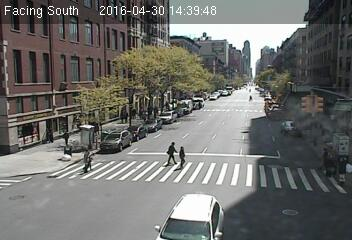neg: (194, 26, 217, 57), (31, 96, 51, 123), (78, 89, 97, 115), (127, 82, 146, 107), (91, 14, 109, 38), (162, 8, 180, 32), (310, 49, 326, 71), (47, 38, 60, 56), (120, 12, 133, 30), (203, 67, 216, 85), (184, 102, 197, 120), (229, 31, 242, 48), (218, 102, 231, 118), (275, 85, 285, 99), (161, 181, 171, 195), (123, 154, 133, 168), (118, 193, 127, 205), (257, 116, 265, 127), (240, 155, 248, 166), (289, 32, 296, 42), (127, 131, 133, 138)
pos: (313, 144, 339, 179), (159, 139, 183, 171), (75, 145, 96, 173), (172, 142, 192, 169), (247, 93, 255, 103), (247, 86, 253, 93)
